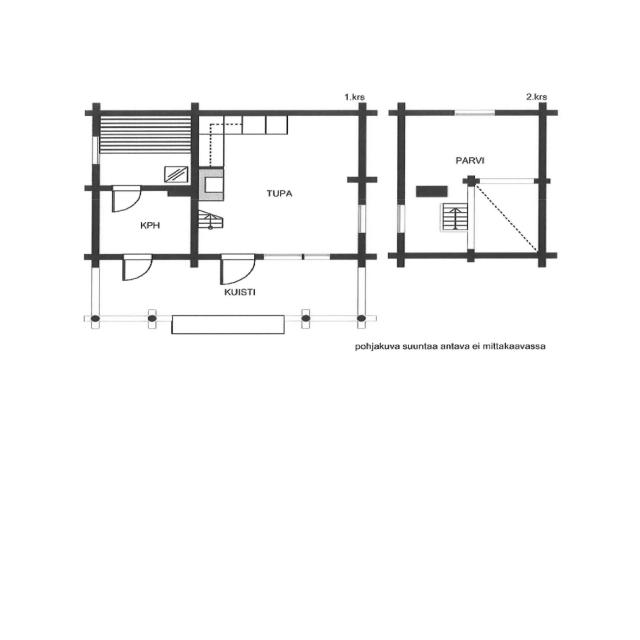door: (217, 252, 257, 286), (119, 253, 155, 282), (109, 185, 143, 215)
window: (85, 262, 104, 319), (262, 250, 340, 263), (353, 262, 370, 320), (447, 107, 500, 118), (88, 132, 104, 168), (394, 202, 408, 235), (355, 202, 369, 235)
zone: (194, 112, 362, 260), (398, 113, 542, 182), (99, 114, 194, 190), (96, 190, 194, 258), (402, 182, 476, 255), (474, 180, 539, 256)
